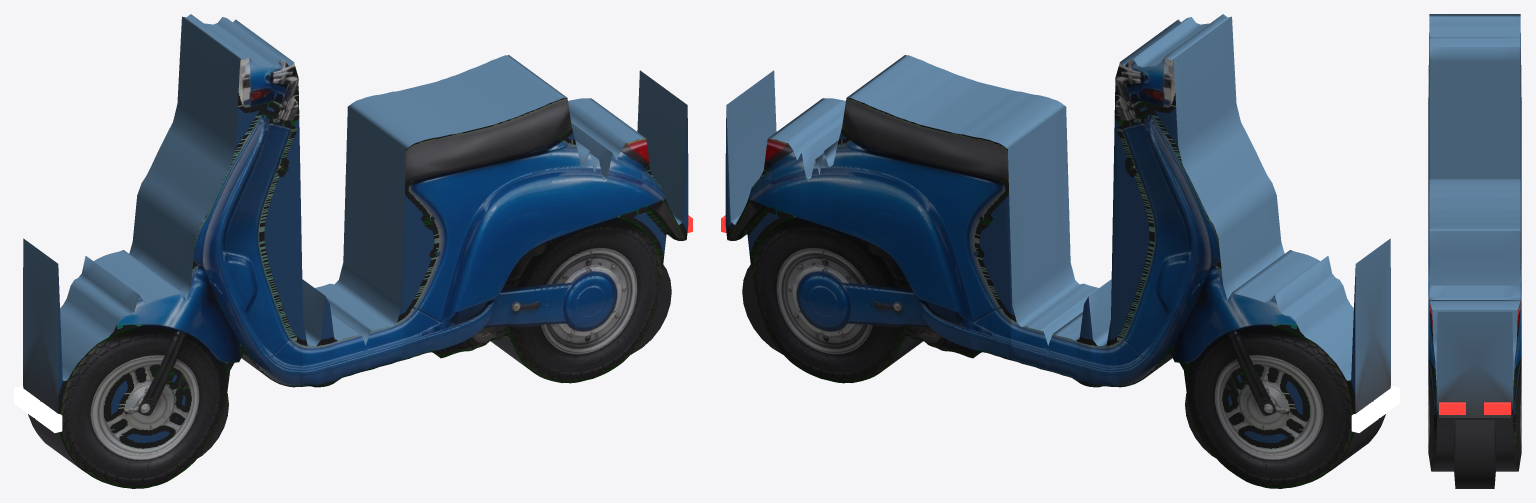
Rendered from scooter.glb.
The picture shows the model from 3 angles, left to right: view 1: azimuth 30°, elevation 25°; view 2: azimuth 150°, elevation 25°; view 3: azimuth 270°, elevation 25°; orthographic projection. The views are drawn at different scales.
Parts seen in each view (by area): view 1: scooter; view 2: scooter; view 3: scooter.
Part boxes in pixels (left/top/right/bottom): scooter: left=14, top=14, right=692, bottom=488; scooter: left=721, top=14, right=1399, bottom=488; scooter: left=1428, top=14, right=1521, bottom=488.
Bounding box in the file's own units: 1.48 × 0.9091 × 0.24.
Materials: 8 (2 with a texture image).
